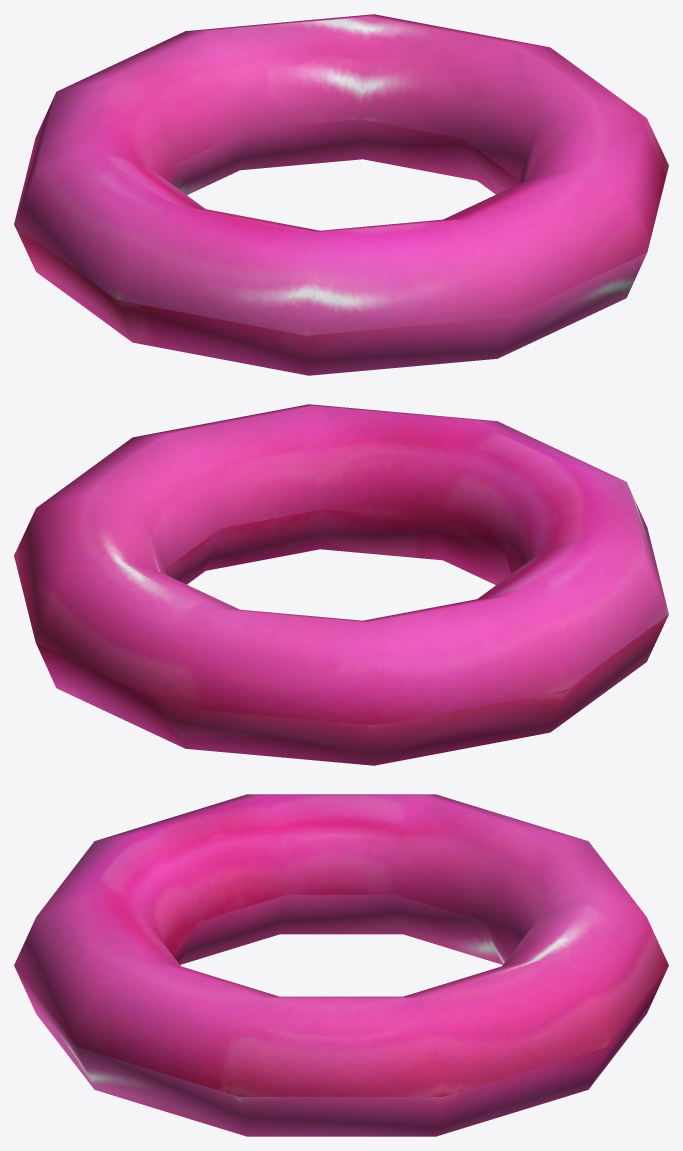
Rendered from furni_0201004.FBX.
3 renders of one model, top to bottom at view 1: azimuth 30°, elevation 25°; view 2: azimuth 150°, elevation 25°; view 3: azimuth 270°, elevation 25°, orthographic. The views are drawn at different scales.
Parts seen in each view (by area): view 1: furni_0201004; view 2: furni_0201004; view 3: furni_0201004.
Part boxes in pixels (left/top/right/bottom): furni_0201004: left=14, top=14, right=668, bottom=375; furni_0201004: left=14, top=404, right=668, bottom=765; furni_0201004: left=14, top=794, right=668, bottom=1136.
Bounding box in the file's own units: 103 × 24.94 × 108.
Materials: 1 (1 with a texture image).
